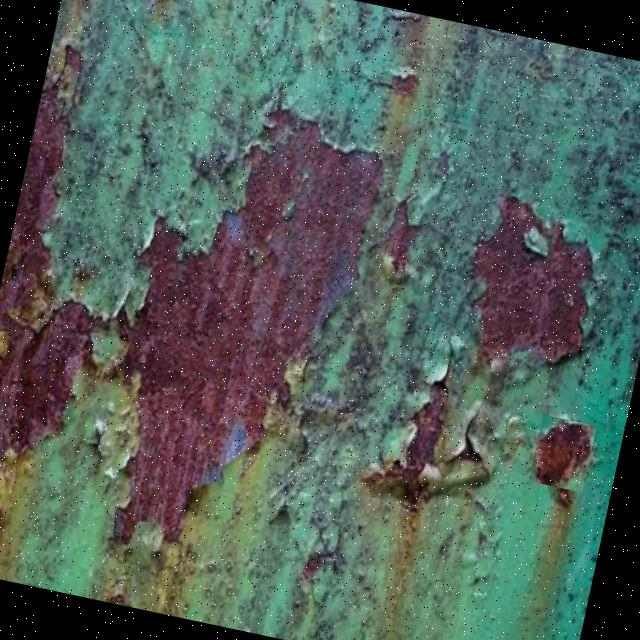Corrosion: (0, 0, 640, 640), (76, 82, 394, 580), (450, 188, 610, 382), (526, 413, 596, 492)
